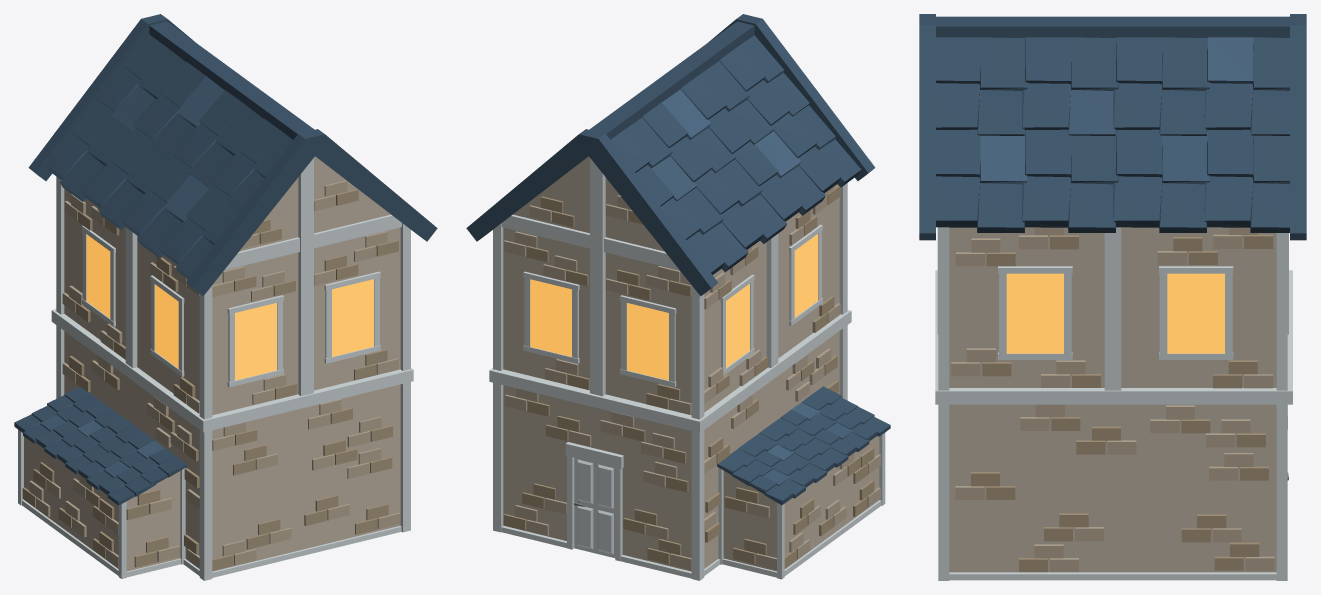
The model's file is SM_House_9.fbx.
3 views of the same model, side by side, from view 1: azimuth 30°, elevation 25°; view 2: azimuth 150°, elevation 25°; view 3: azimuth 270°, elevation 25° (orthographic). The views are drawn at different scales.
Parts seen in each view (by area): view 1: SM_House_9_LOD0; view 2: SM_House_9_LOD0; view 3: SM_House_9_LOD0.
Part boxes in pixels (box(x1,y1,x2,y2)): SM_House_9_LOD0: box(14, 14, 437, 580); SM_House_9_LOD0: box(466, 14, 890, 580); SM_House_9_LOD0: box(919, 14, 1306, 580).
Size of the model in its own units: 700 by 688 by 982.
1 material, 1 textured.
